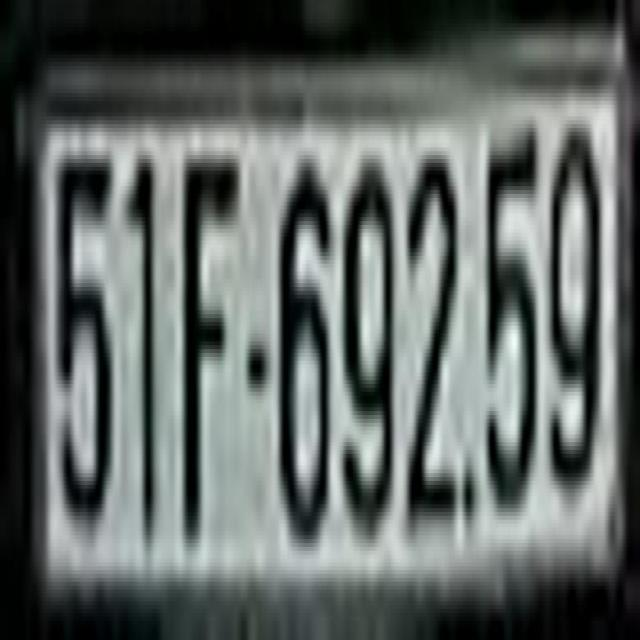1: (125, 135, 158, 528)
2: (408, 143, 457, 516)
5: (56, 144, 116, 504), (487, 109, 540, 504)
6: (280, 143, 330, 528)
9: (341, 140, 392, 524), (550, 112, 600, 496)
F: (181, 135, 241, 528)
